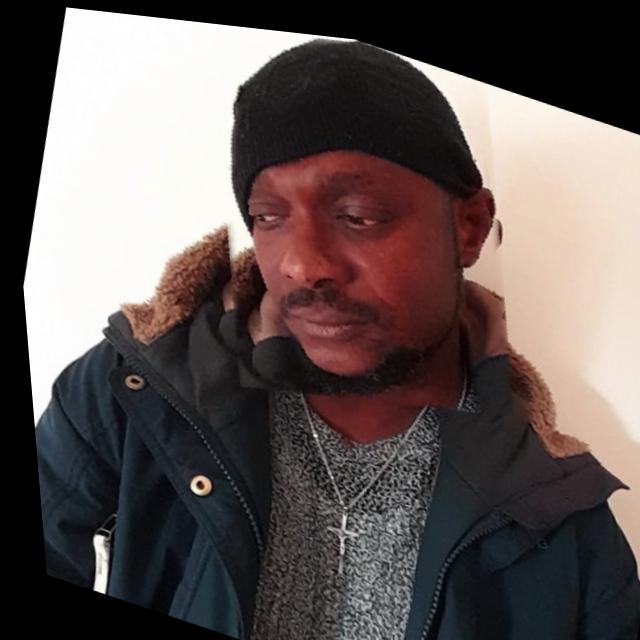sad: (152, 13, 565, 452)
